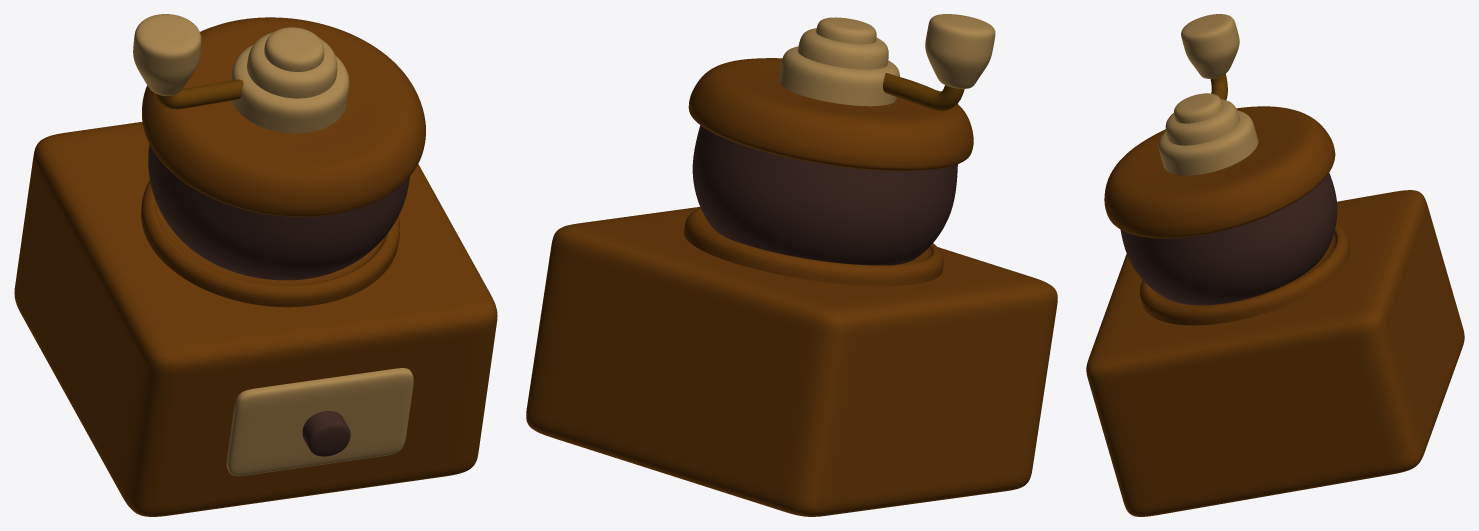
The model's file is hand-coffee-grinder.glb.
3 views of the same model, side by side, from view 1: azimuth 30°, elevation 25°; view 2: azimuth 150°, elevation 25°; view 3: azimuth 270°, elevation 25° (orthographic). The views are drawn at different scales.
Visible parts, largest first — view 1: Cube, Cylinder.005, Cylinder.009, Cube.001, Cylinder.010, Cylinder.008, Cylinder.007, Cube.002, BezierCurve; view 2: Cube, Cylinder.009, Cylinder.005, Cylinder.010, Cylinder.008, Cylinder.007, BezierCurve; view 3: Cube, Cylinder.005, Cylinder.009, Cylinder.010, Cylinder.008, Cylinder.007.
Boxes of the visible parts, x1,y1,x2,y2 form: Cube: [14, 122, 497, 516]; Cylinder.005: [142, 17, 425, 216]; Cylinder.009: [148, 144, 409, 280]; Cube.001: [226, 368, 413, 476]; Cylinder.010: [231, 27, 349, 133]; Cylinder.008: [141, 180, 399, 307]; Cylinder.007: [133, 14, 201, 95]; Cube.002: [302, 411, 350, 456]; BezierCurve: [155, 79, 243, 109]; Cube: [526, 207, 1057, 516]; Cylinder.009: [692, 125, 957, 265]; Cylinder.005: [688, 58, 973, 171]; Cylinder.010: [778, 17, 899, 106]; Cylinder.008: [684, 208, 943, 285]; Cylinder.007: [925, 14, 995, 88]; BezierCurve: [883, 73, 964, 110]; Cube: [1086, 190, 1464, 516]; Cylinder.005: [1104, 106, 1335, 238]; Cylinder.009: [1120, 173, 1337, 305]; Cylinder.010: [1158, 93, 1258, 175]; Cylinder.008: [1140, 224, 1350, 325]; Cylinder.007: [1181, 14, 1239, 78].
Bounding box in the file's own units: 1.52 × 1.88 × 1.63.
